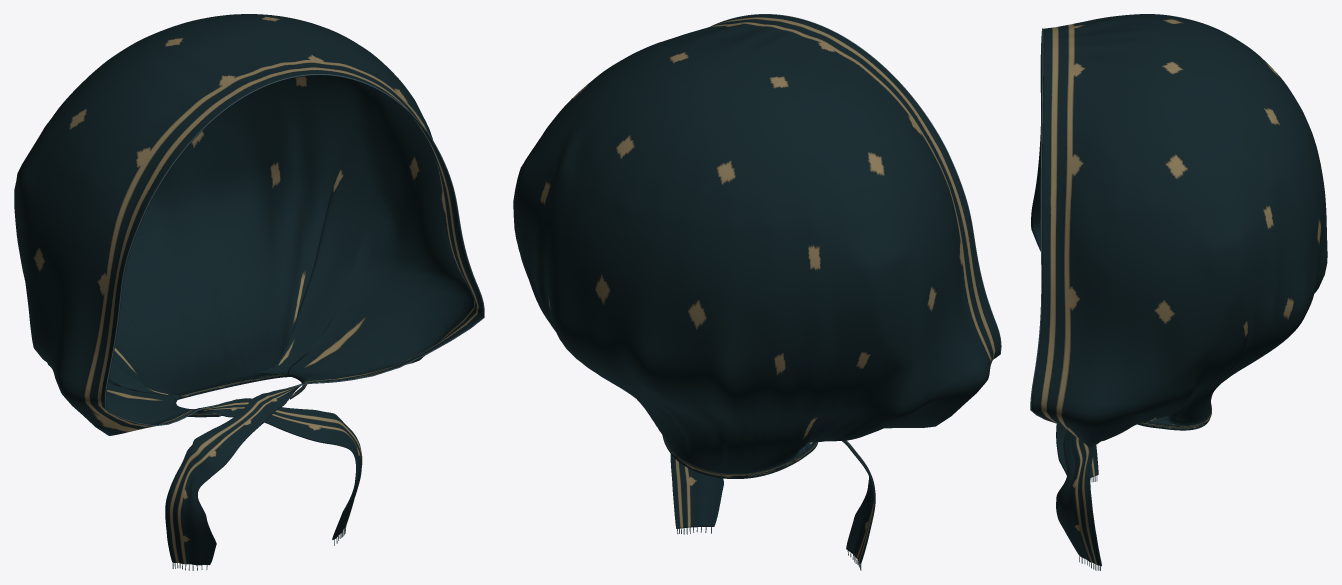
The model's file is Feminine-twin-braids-tshirt-pashmina249-headgear.glb.
The picture shows the model from 3 angles, left to right: view 1: azimuth 30°, elevation 25°; view 2: azimuth 150°, elevation 25°; view 3: azimuth 270°, elevation 25°; orthographic projection. The views are drawn at different scales.
Visible parts, largest first — view 1: 226 headgear / Headwear / continuous woven pashmina239, 226 headgear / Headwear / face edge239; view 2: 226 headgear / Headwear / continuous woven pashmina239, 226 headgear / Headwear / face edge239; view 3: 226 headgear / Headwear / continuous woven pashmina239, 226 headgear / Headwear / face edge239.
Boxes of the visible parts, x1,y1,x2,y2 form: 226 headgear / Headwear / continuous woven pashmina239: (14, 14, 483, 565); 226 headgear / Headwear / face edge239: (104, 74, 484, 426); 226 headgear / Headwear / continuous woven pashmina239: (513, 14, 1000, 564); 226 headgear / Headwear / face edge239: (710, 14, 1001, 359); 226 headgear / Headwear / continuous woven pashmina239: (1031, 14, 1327, 566); 226 headgear / Headwear / face edge239: (1030, 28, 1056, 423).
Bounding box in the file's own units: 1.15 × 1.36 × 0.7436.
Materials: 3 (1 with a texture image).
